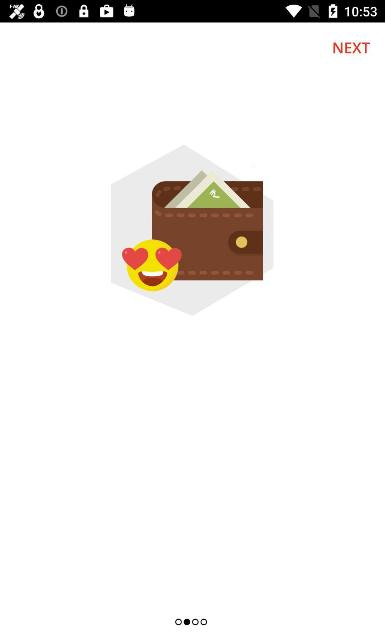Image: (111, 144, 274, 316)
PageIndicator: (175, 618, 207, 626)
Text: (334, 42, 370, 54)
UpperTaskBar: (0, 0, 384, 22)
